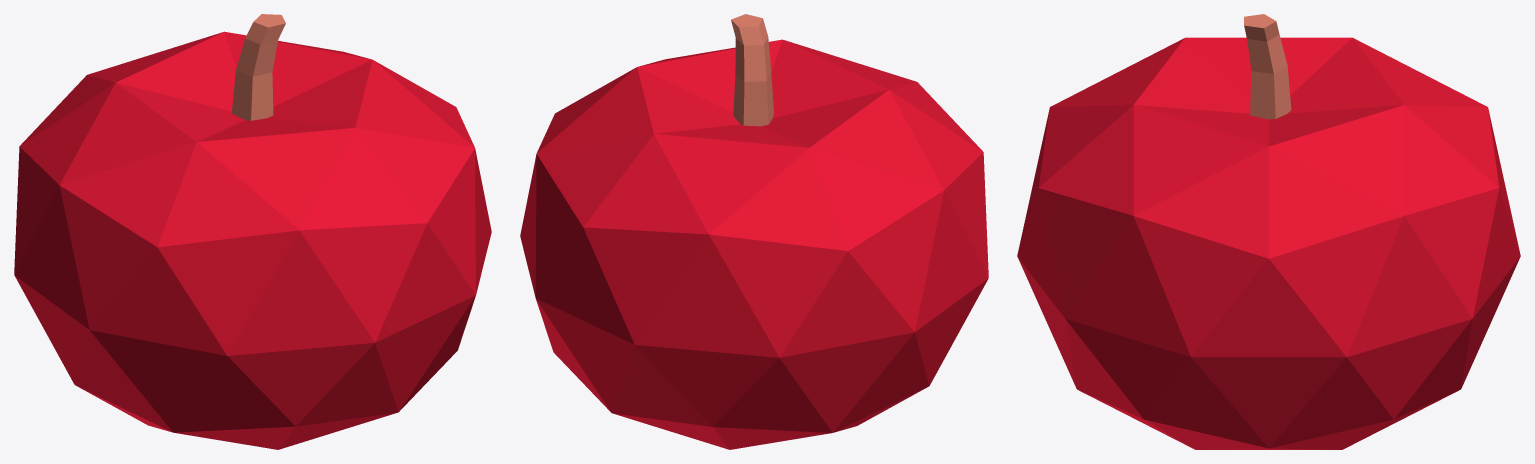
File: Apple.fbx
The picture shows the model from 3 angles, left to right: view 1: azimuth 30°, elevation 25°; view 2: azimuth 150°, elevation 25°; view 3: azimuth 270°, elevation 25°; orthographic projection. The views are drawn at different scales.
Parts seen in each view (by area): view 1: Apple; view 2: Apple; view 3: Apple.
Boxes of the visible parts, x1,y1,x2,y2 form: Apple: (14, 14, 491, 449); Apple: (520, 14, 988, 449); Apple: (1017, 14, 1520, 449).
Size of the model in its own units: 50.72 by 45.57 by 53.02.
